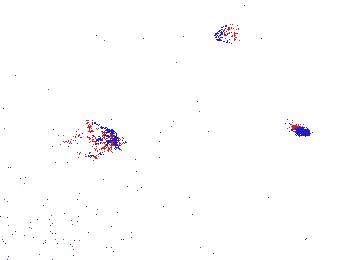X-ray fish: (58, 119, 132, 161), (213, 20, 257, 45)
red belly glassfish: (286, 112, 316, 138)
